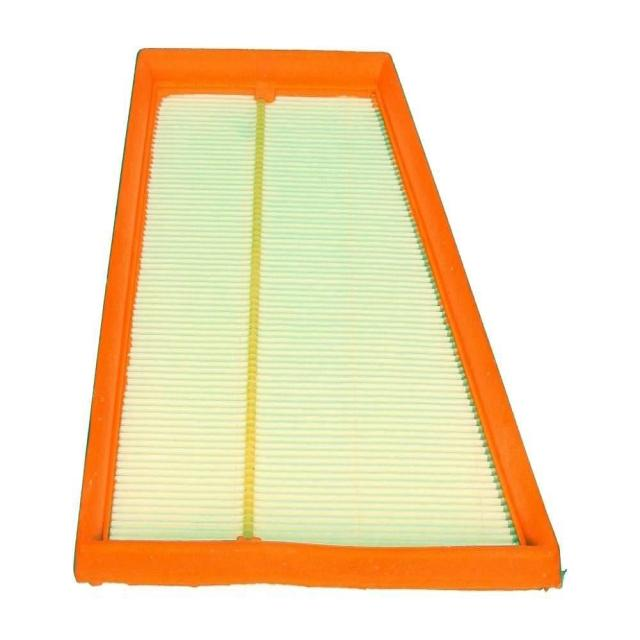air_filter: (73, 23, 569, 595)
